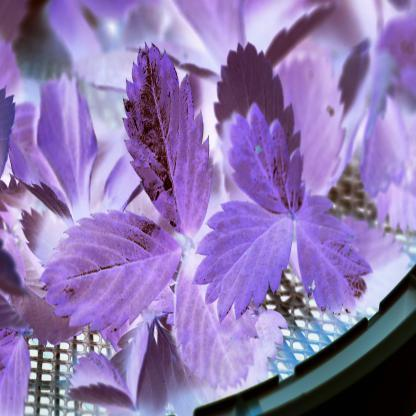Strawberry leaf: (113, 38, 216, 239), (41, 212, 196, 330), (190, 194, 296, 320), (229, 98, 306, 218), (293, 189, 369, 307)
